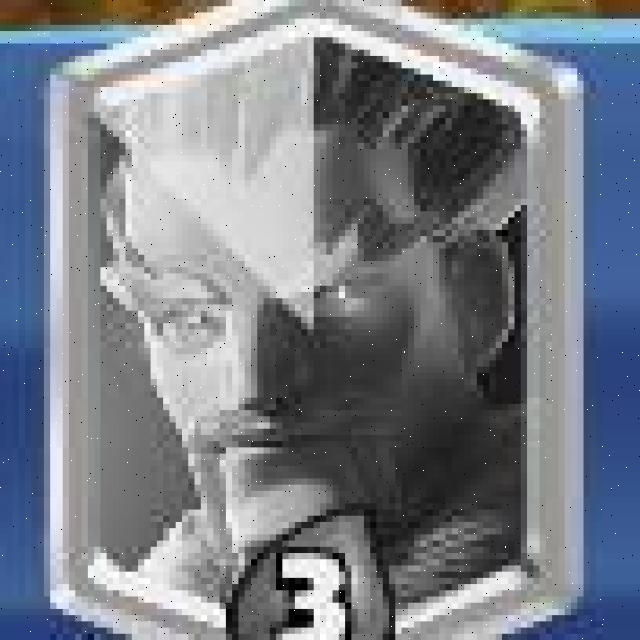Ice_Wizard: (56, 3, 576, 635)
